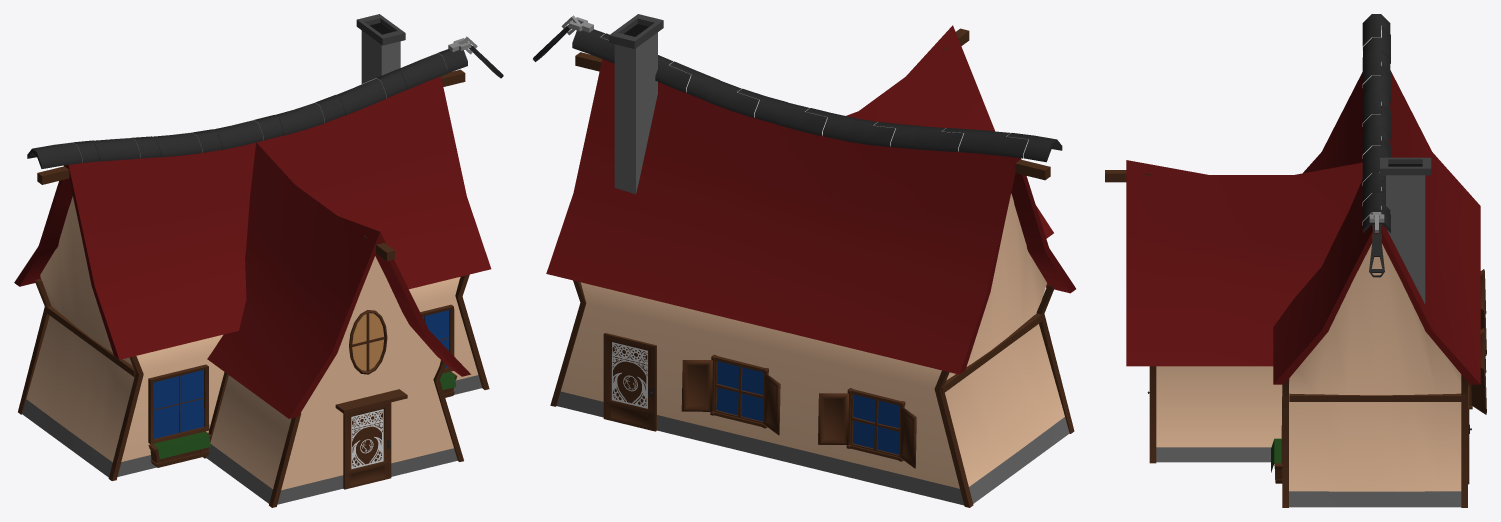
Rendered from HouseVariation.6.fbx.
3 views of the same model, side by side, from view 1: azimuth 30°, elevation 25°; view 2: azimuth 150°, elevation 25°; view 3: azimuth 270°, elevation 25° (orthographic). The views are drawn at different scales.
Visible parts, largest first — view 1: HouseVariation.6; view 2: HouseVariation.6; view 3: HouseVariation.6.
Boxes of the visible parts, x1=… form: HouseVariation.6: x1=14, y1=14, x2=503, y2=507; HouseVariation.6: x1=533, y1=14, x2=1075, y2=507; HouseVariation.6: x1=1105, y1=14, x2=1486, y2=507.
Bounding box in the file's own units: 1602 × 1074 × 1151.
